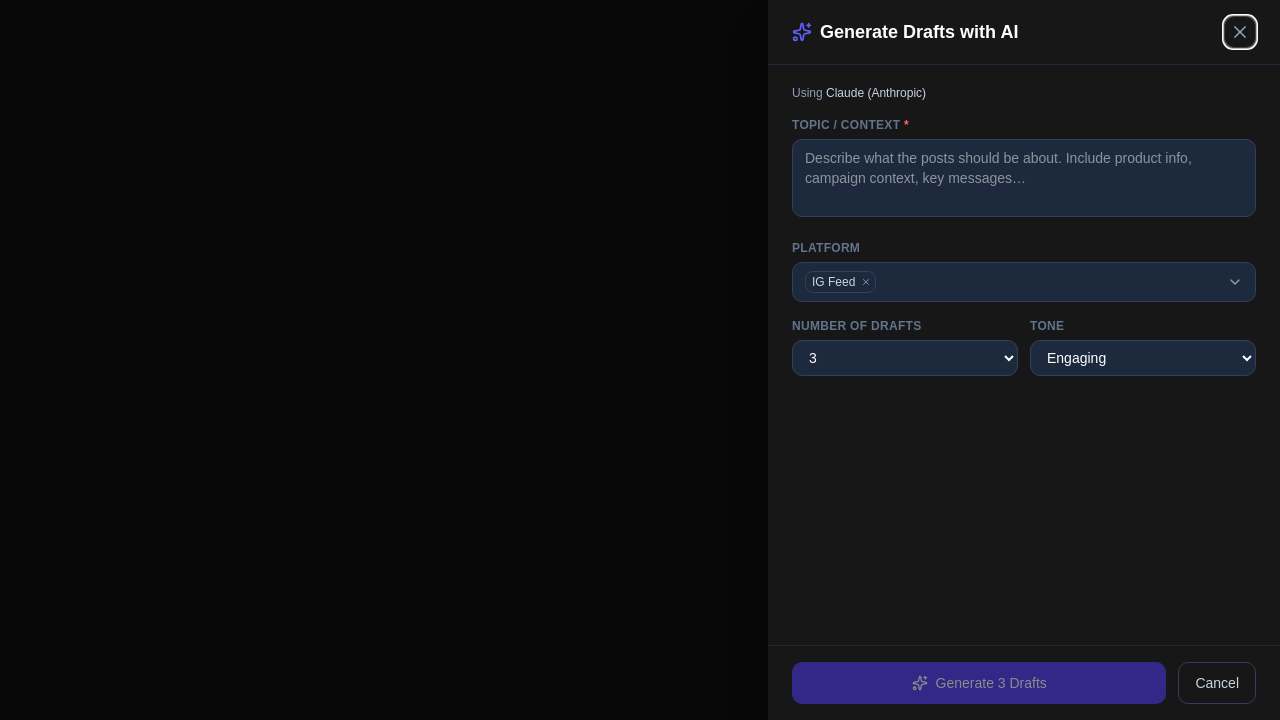
AiDraftGenerator › surfaces an error when the stream has no JSON array
Expected: the text "Claude (Anthropic)" is shown, [826, 86, 926, 100]
In the text box labelled "Topic / Context *": (1024, 178) [792, 139, 1256, 217], type "Topic"
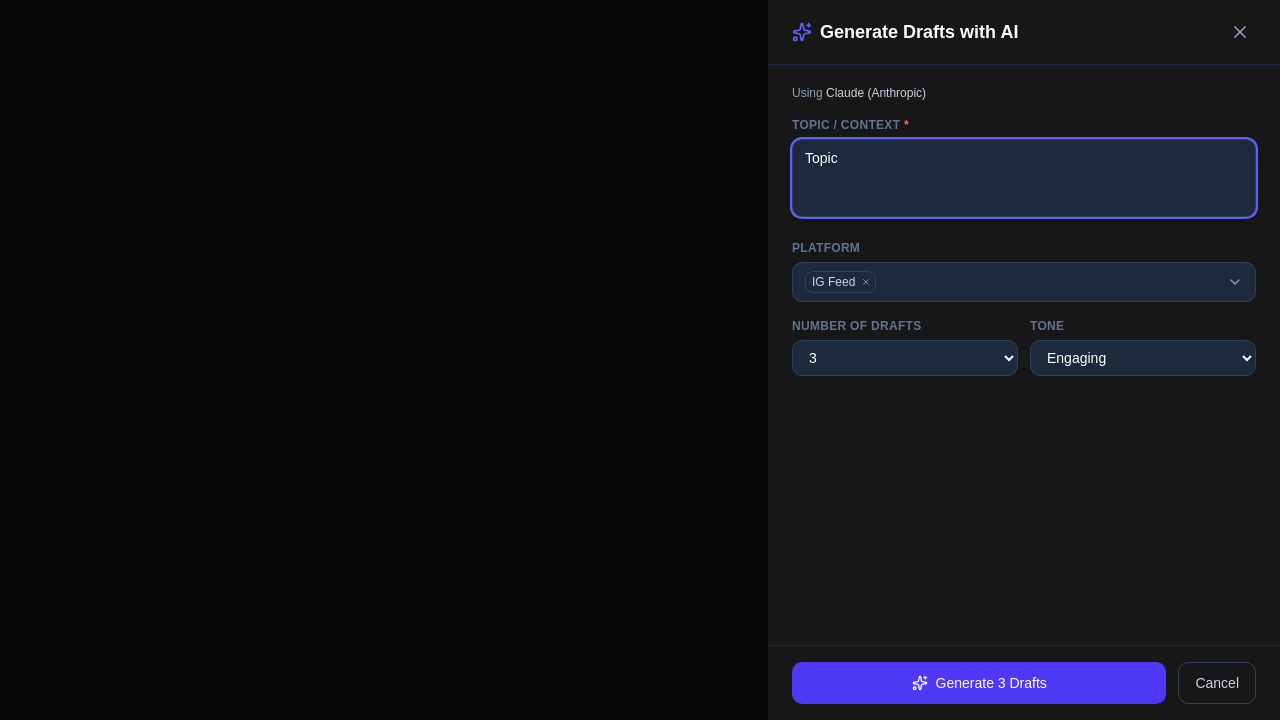
Click the button "Generate 3 Drafts": (979, 683) [792, 662, 1166, 704]
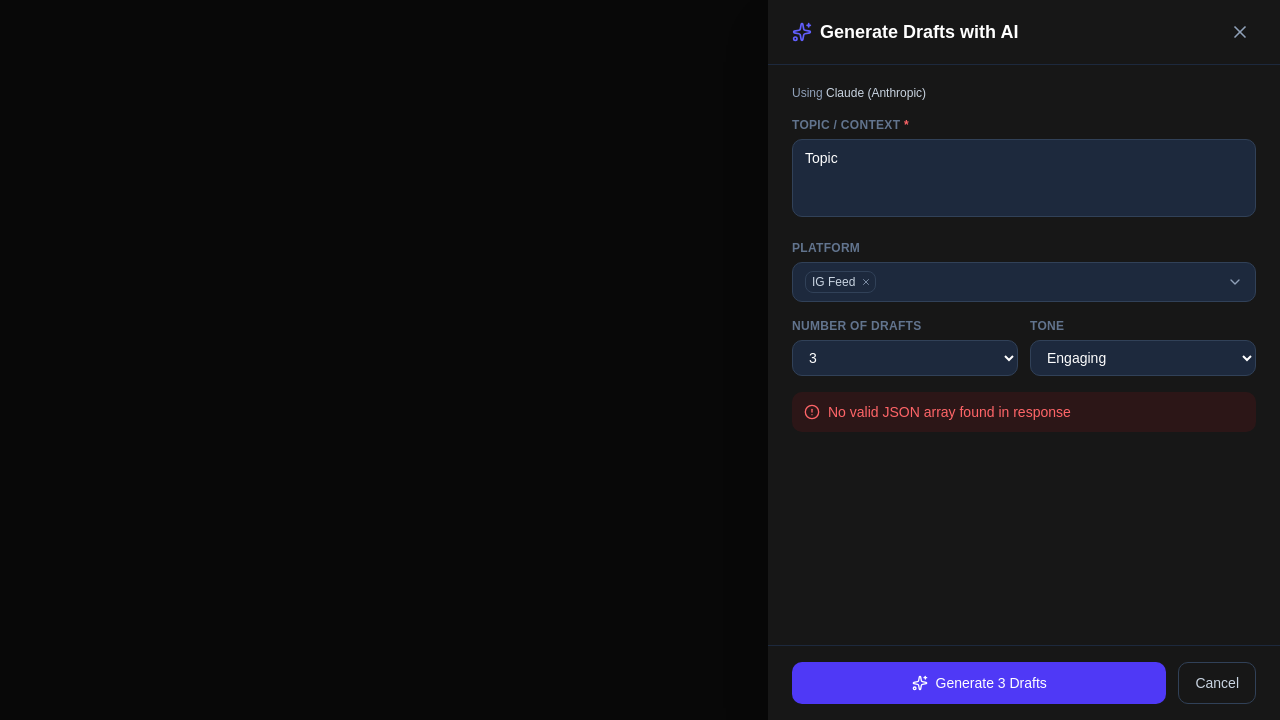
Expected: the text "No valid JSON array found in response" is shown, [828, 402, 1071, 422]
